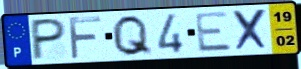4: (156, 11, 186, 56)
E: (193, 10, 235, 53)
F: (67, 15, 104, 61)
P: (30, 17, 69, 63)
Q: (111, 13, 155, 58)
X: (231, 8, 271, 53)
